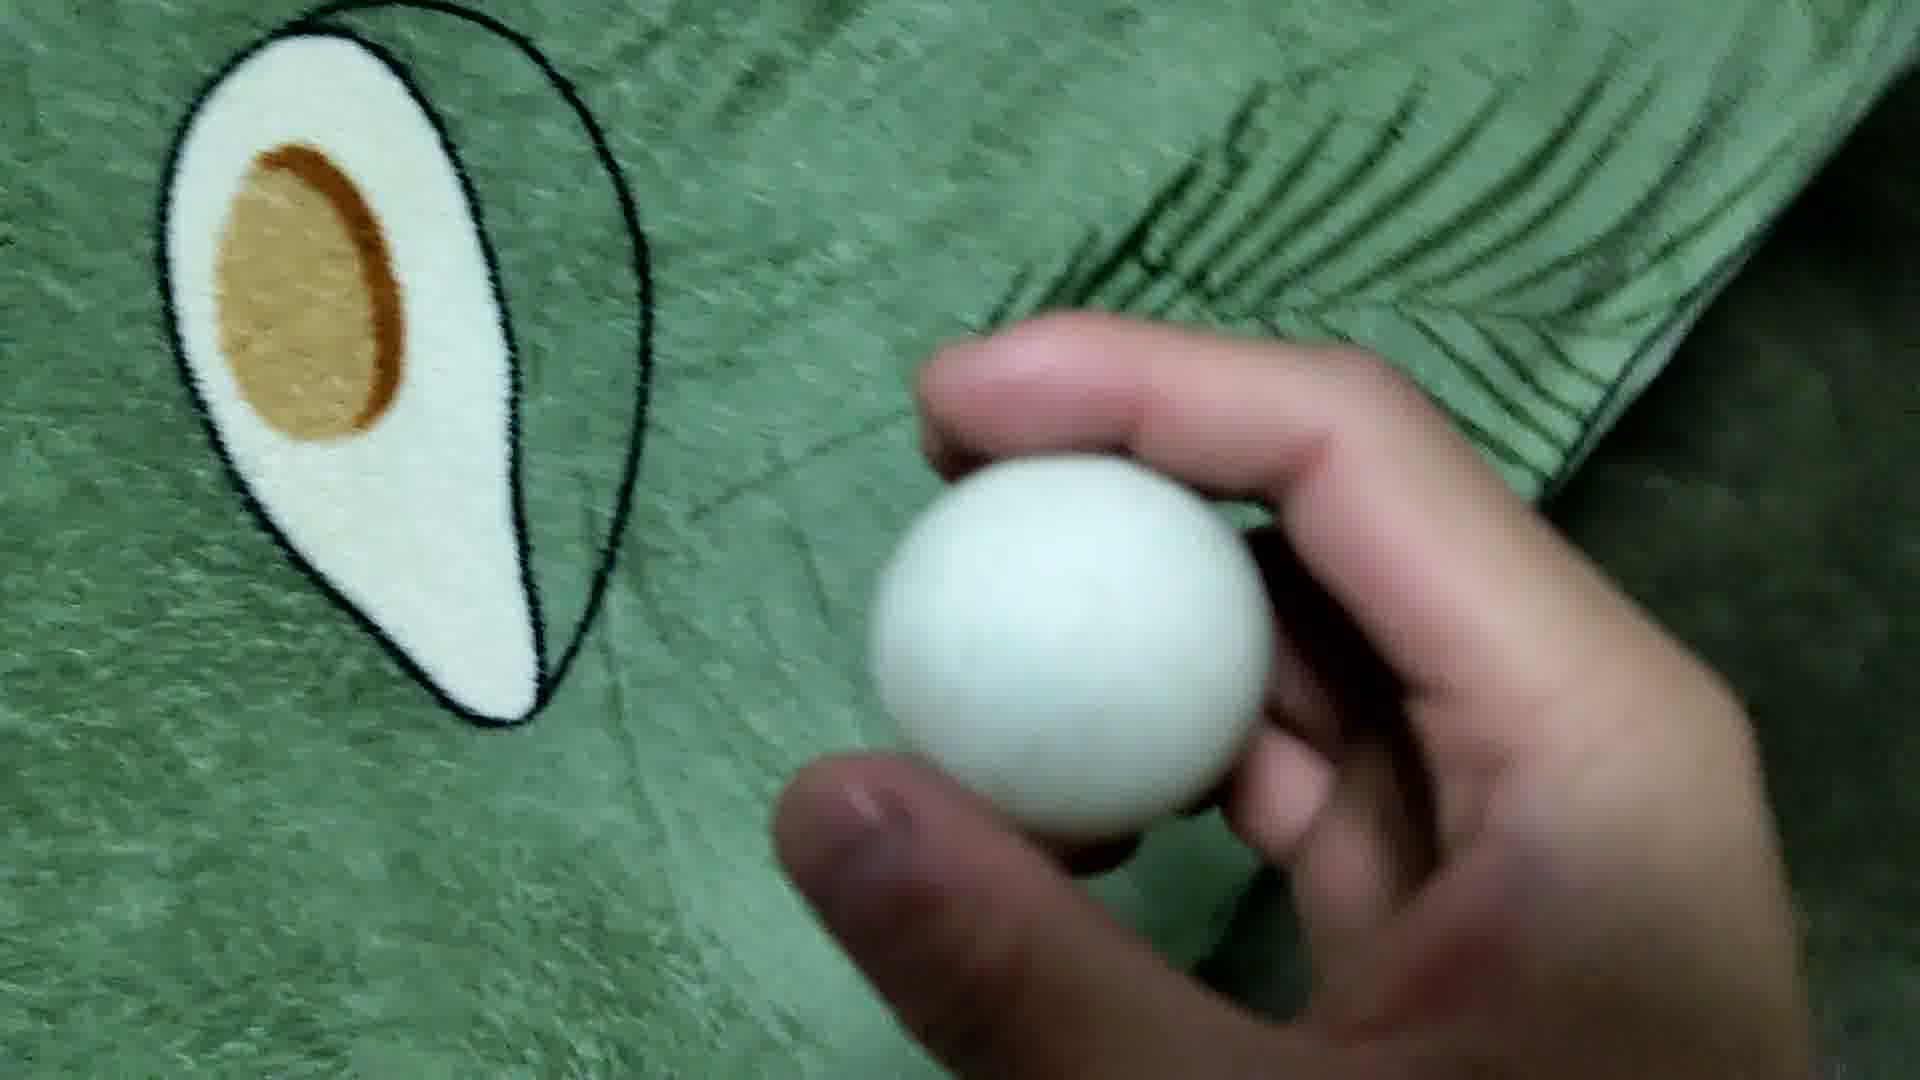Ball: (870, 450, 1276, 845)
